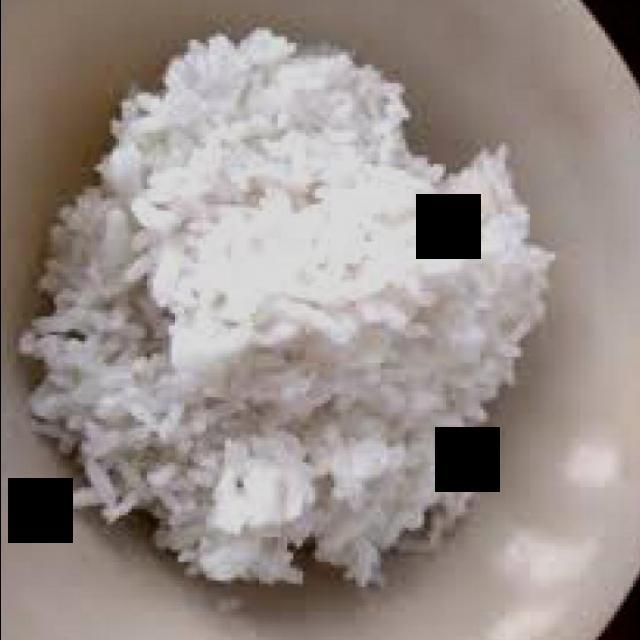Chicken -Chicken Inasal-: (29, 35, 545, 581)
